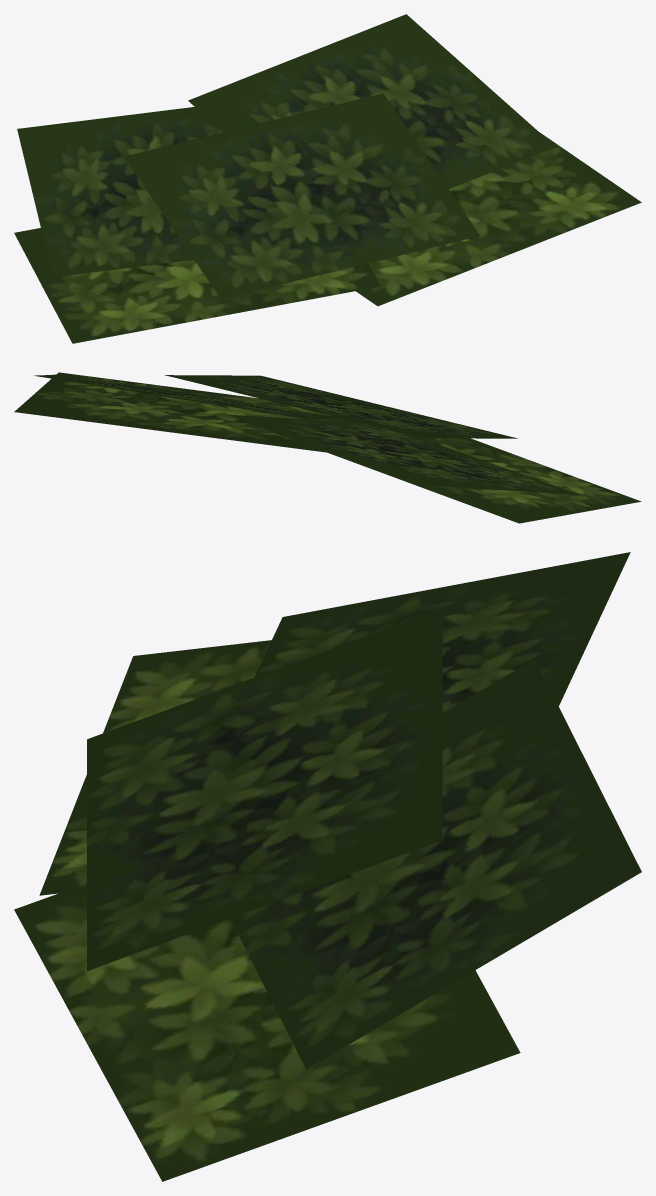
Rendered from dec_Border_Bush_03_9233.glb.
3 views of the same model, one above another, from view 1: azimuth 30°, elevation 25°; view 2: azimuth 150°, elevation 25°; view 3: azimuth 270°, elevation 25° (orthographic). The views are drawn at different scales.
Visible parts, largest first — view 1: Border_Bush_03_mesh; view 2: Border_Bush_03_mesh; view 3: Border_Bush_03_mesh.
Boxes of the visible parts, <box> form: Border_Bush_03_mesh: <box>14,14,641,343</box>; Border_Bush_03_mesh: <box>14,372,641,523</box>; Border_Bush_03_mesh: <box>14,552,641,1181</box>.
Size of the model in its own units: 1.91 by 0.373 by 0.9814.
1 material, 1 textured.
